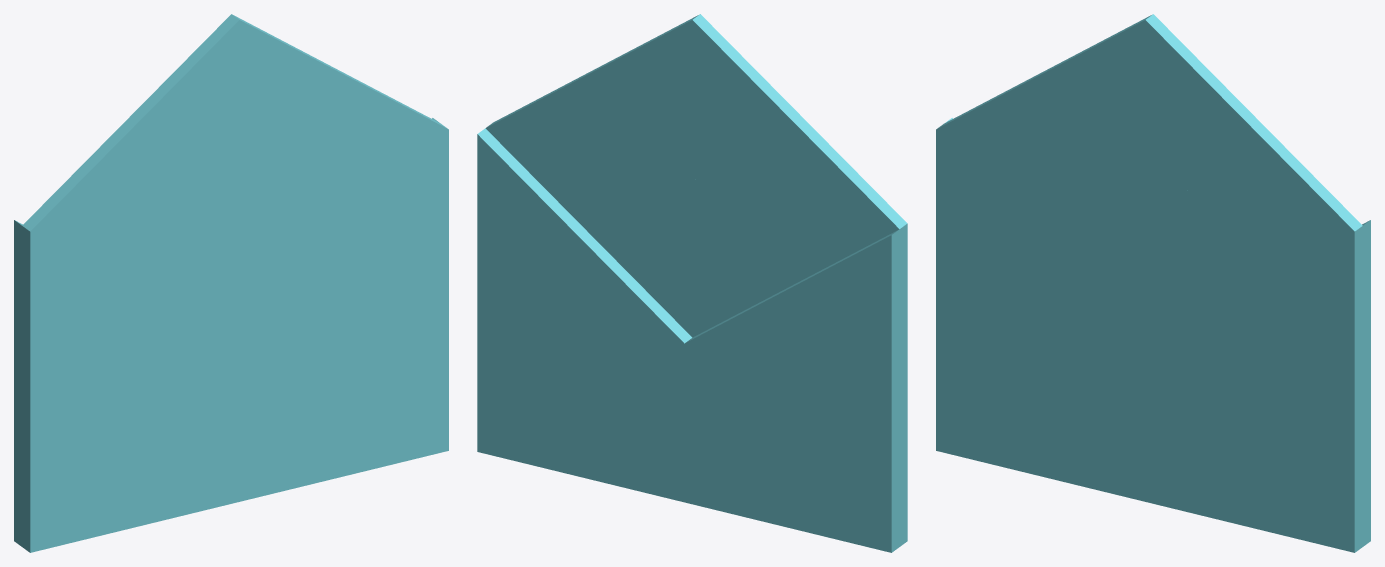
Rendered from envelope.fbx.
3 views of the same model, side by side, from view 1: azimuth 30°, elevation 25°; view 2: azimuth 150°, elevation 25°; view 3: azimuth 330°, elevation 25° (orthographic).
Visible parts, largest first — view 1: mesh_1579076888, mesh_917393452; view 2: mesh_1579076888, mesh_917393452; view 3: mesh_1579076888, mesh_917393452.
Part boxes in pixels (bbox=[...]): mesh_1579076888: bbox=[14, 118, 448, 552]; mesh_917393452: bbox=[22, 14, 448, 231]; mesh_1579076888: bbox=[477, 128, 907, 552]; mesh_917393452: bbox=[486, 14, 907, 229]; mesh_1579076888: bbox=[936, 118, 1370, 552]; mesh_917393452: bbox=[936, 14, 1362, 231].
Size of the model in its own units: 30 by 33 by 2.
